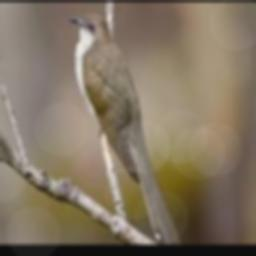Cuckoo: (67, 13, 180, 245)
